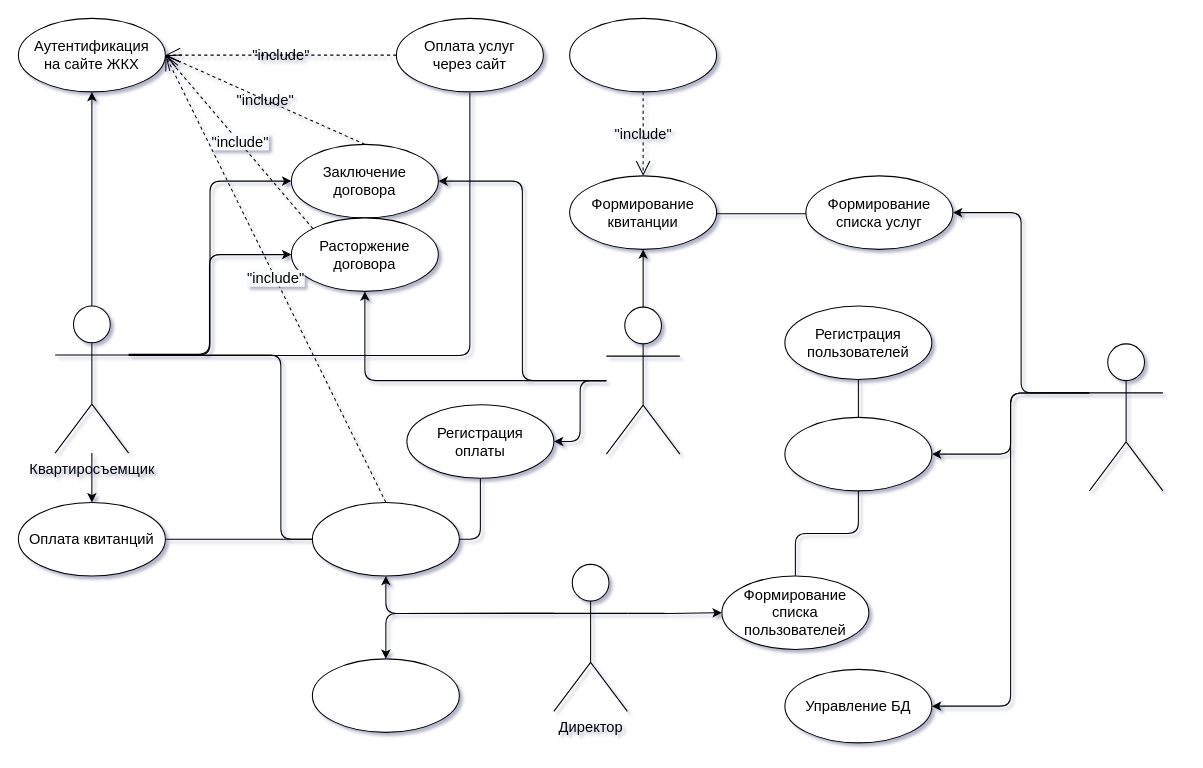
The diagram is 1203 pixels wide and 768 high, and some of its shapes have lost their labels. Here are the shapes that lost their labels. From the top down, the centre of each, then its label:
the point at 643,54: Отправление квитанций
the point at 642,380: Кассир
the point at 1125,417: Администратор БД
the point at 858,453: Управление учетными записями
the point at 385,538: Просмотр задолженностей
the point at 385,695: Просмотр отчетов об оплатах
